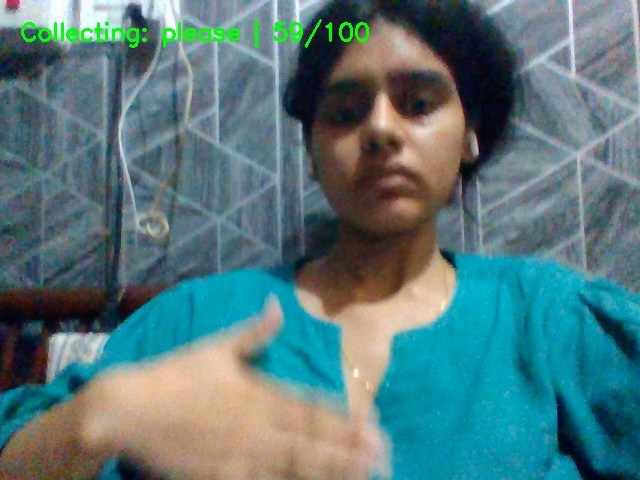please: (90, 297, 414, 480)
